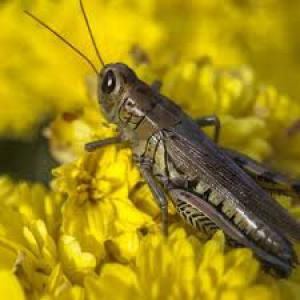locust: (74, 36, 300, 262)
